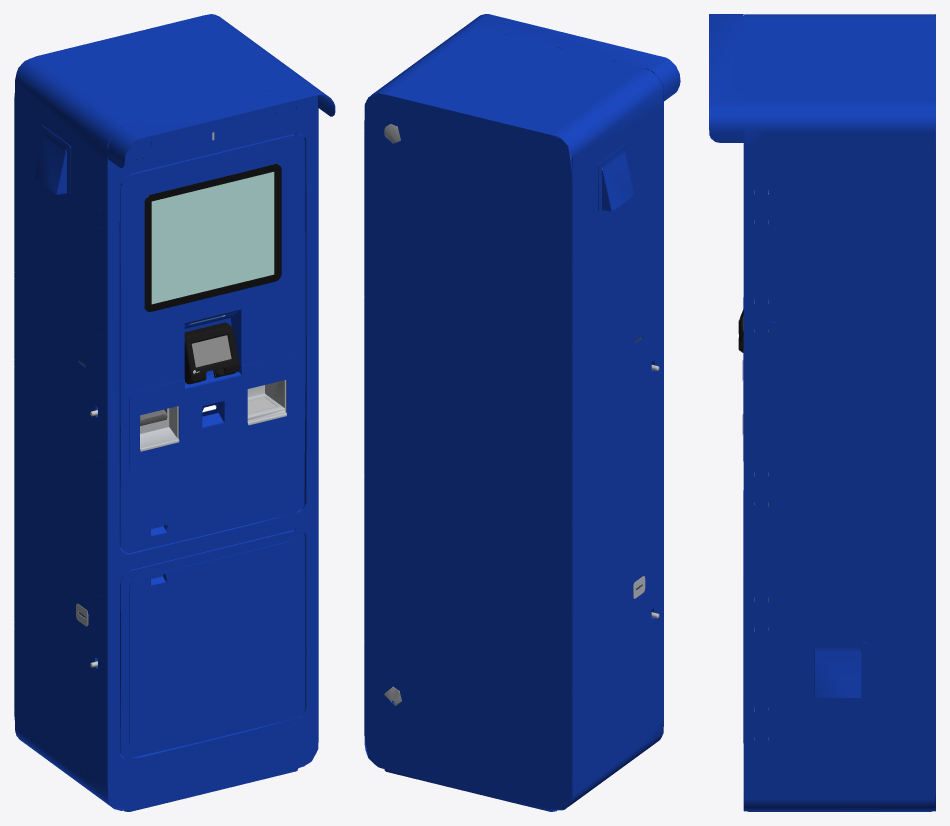
File: tsv17.glb
3 renders of one model, left to right at view 1: azimuth 30°, elevation 25°; view 2: azimuth 150°, elevation 25°; view 3: azimuth 270°, elevation 25°, orthographic. The views are drawn at different scales.
Parts seen in each view (by area): view 1: КТУ31-01.00.000_СБ Корпус-2 / КТУ31-01.03.000_СБ Стенка лева, У-НД-КТУ31-02.01.000_СБ Дверь верхняя-1, КТУ31-01.00.000_СБ Корпус-2 / КТУ31-01.02.000_СБ Стенка пере, У-НД-КТУ31-23.00.000_СБ Накладка нижней двери-1, Стекло тач CM-170G0102(4mmCG R18.96)-1, Сборка6-1, КТУ31-01.00.000_СБ Корпус-2 / КТУ31-01.04.000_СБ Стенка прав, У-НД-КТУ31-02.02.000_СБ Дверь нижняя-1, КТУ31-01.00.000_СБ Корпус-2 / КТУ31-01.00.001 Козырек-1 (00), POS TERMINAL PAX IM20 в сборе-1, КТУ31-24.00.000_СБ Крышка от снега-2, Сборка 5-1 (+3 smaller); view 2: КТУ31-01.00.000_СБ Корпус-2 / КТУ31-01.01.000_СБ Стенка задн, КТУ31-01.00.000_СБ Корпус-2 / КТУ31-01.03.000_СБ Стенка лева, КТУ31-01.00.000_СБ Корпус-2 / КТУ31-01.04.000_СБ Стенка прав, КТУ31-01.00.000_СБ Корпус-2 / КТУ31-01.00.001 Козырек-1 (00), КТУ31-24.00.000_СБ Крышка от снега-2, КТУ31-01.00.000_СБ Корпус-2 / КТУ31-01.02.000_СБ Стенка пере; view 3: КТУ31-01.00.000_СБ Корпус-2 / КТУ31-01.04.000_СБ Стенка прав, КТУ31-01.00.000_СБ Корпус-2 / КТУ31-01.03.000_СБ Стенка лева, КТУ31-01.00.000_СБ Корпус-2 / КТУ31-01.00.001 Козырек-1 (00), КТУ31-24.00.000_СБ Крышка от снега-1, КТУ31-01.00.000_СБ Корпус-2 / КТУ31-01.02.000_СБ Стенка пере, КТУ31-01.00.000_СБ Корпус-2 / КТУ31-01.01.000_СБ Стенка задн.
Part boxes in pixels (x1,y1,x2,y2): КТУ31-01.00.000_СБ Корпус-2 / КТУ31-01.03.000_СБ Стенка лева: [14, 36, 212, 810]; У-НД-КТУ31-02.01.000_СБ Дверь верхняя-1: [119, 134, 305, 553]; КТУ31-01.00.000_СБ Корпус-2 / КТУ31-01.02.000_СБ Стенка пере: [107, 82, 318, 809]; У-НД-КТУ31-23.00.000_СБ Накладка нижней двери-1: [129, 541, 297, 748]; Стекло тач CM-170G0102(4mmCG R18.96)-1: [144, 164, 281, 311]; Сборка6-1: [129, 354, 296, 475]; КТУ31-01.00.000_СБ Корпус-2 / КТУ31-01.04.000_СБ Стенка прав: [120, 14, 318, 783]; У-НД-КТУ31-02.02.000_СБ Дверь нижняя-1: [120, 530, 305, 758]; КТУ31-01.00.000_СБ Корпус-2 / КТУ31-01.00.001 Козырек-1 (00): [107, 82, 335, 167]; POS TERMINAL PAX IM20 в сборе-1: [184, 322, 239, 384]; КТУ31-24.00.000_СБ Крышка от снега-2: [34, 125, 70, 194]; Сборка 5-1: [247, 380, 286, 425]; КТУ31-01.00.000_СБ Корпус-2 / КТУ31-01.01.000_СБ Стенка задн: [364, 93, 572, 810]; КТУ31-01.00.000_СБ Корпус-2 / КТУ31-01.03.000_СБ Стенка лева: [469, 48, 663, 809]; КТУ31-01.00.000_СБ Корпус-2 / КТУ31-01.04.000_СБ Стенка прав: [364, 26, 559, 783]; КТУ31-01.00.000_СБ Корпус-2 / КТУ31-01.00.001 Козырек-1 (00): [463, 14, 680, 101]; КТУ31-24.00.000_СБ Крышка от снега-2: [598, 143, 634, 211]; КТУ31-01.00.000_СБ Корпус-2 / КТУ31-01.02.000_СБ Стенка пере: [467, 26, 663, 741]; КТУ31-01.00.000_СБ Корпус-2 / КТУ31-01.04.000_СБ Стенка прав: [743, 60, 935, 811]; КТУ31-01.00.000_СБ Корпус-2 / КТУ31-01.03.000_СБ Стенка лева: [743, 14, 935, 741]; КТУ31-01.00.000_СБ Корпус-2 / КТУ31-01.00.001 Козырек-1 (00): [709, 14, 744, 142]; КТУ31-24.00.000_СБ Крышка от снега-1: [807, 642, 868, 697]; КТУ31-01.00.000_СБ Корпус-2 / КТУ31-01.02.000_СБ Стенка пере: [743, 14, 744, 811]; КТУ31-01.00.000_СБ Корпус-2 / КТУ31-01.01.000_СБ Стенка задн: [935, 14, 935, 811].
Size of the model in its own units: 0.6393 by 1.83 by 0.524.
